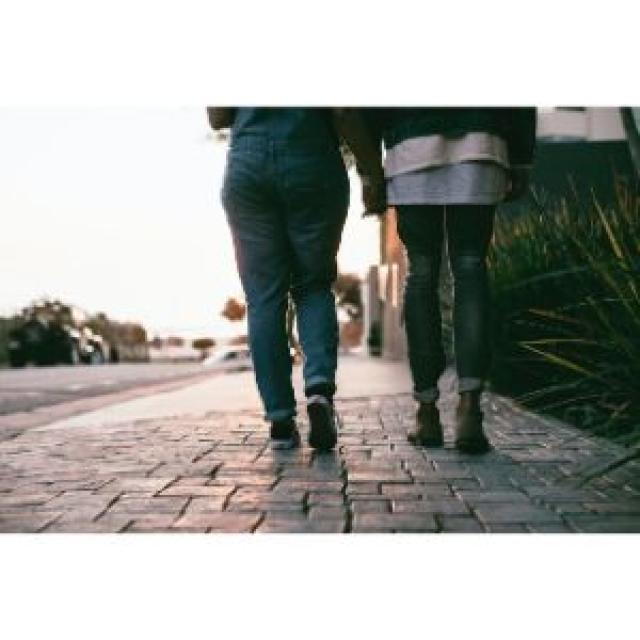nonfall: (186, 132, 362, 470), (371, 141, 538, 464)
